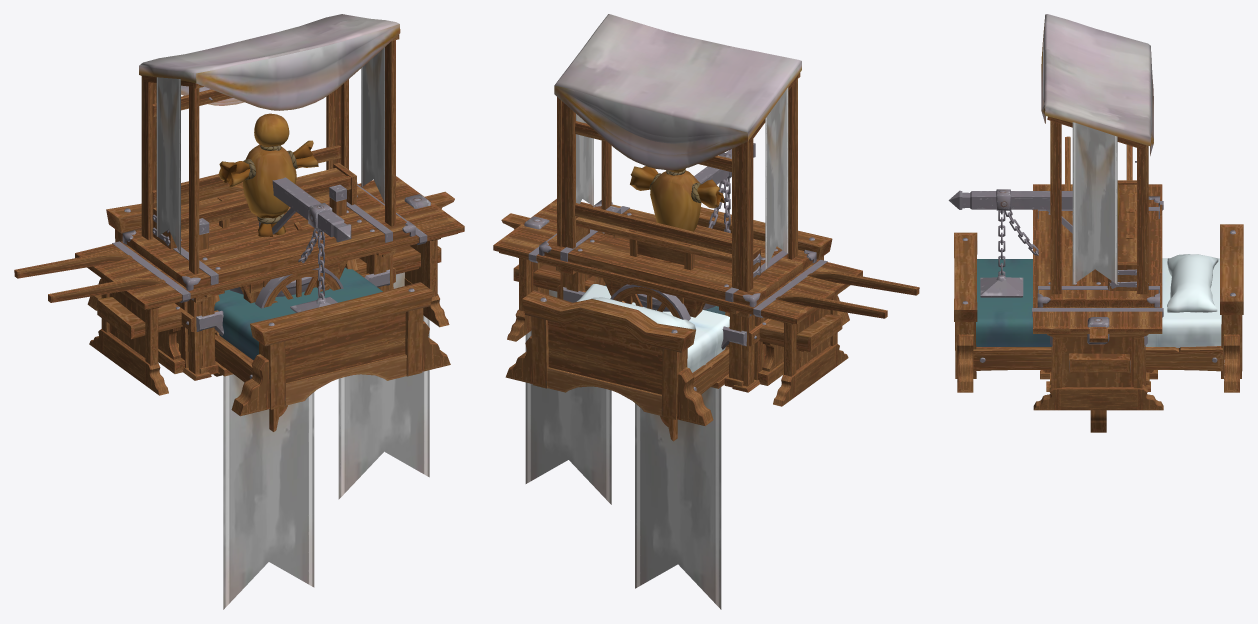
Rendered from utileria.glb.
3 views of the same model, side by side, from view 1: azimuth 30°, elevation 25°; view 2: azimuth 150°, elevation 25°; view 3: azimuth 270°, elevation 25° (orthographic). The views are drawn at different scales.
Parts seen in each view (by area): view 1: Bed_Twin1, Stall_Cart_Empty, Stall_Empty, Banner_1_Cloth, Table_Large, Workbench, Banner_1, Dummy, Bench, Lantern_Wall, WeaponStand; view 2: Stall_Empty, Bed_Twin1, Stall_Cart_Empty, Banner_1_Cloth, Table_Large, Workbench, Banner_1, Dummy, Bench, Lantern_Wall, Chair_1; view 3: Bed_Twin1, Stall_Empty, Table_Large, Stall_Cart_Empty, Workbench, Lantern_Wall, Bench, Banner_1.
Part boxes in pixels (box(x1,y1,x2,y2)): Bed_Twin1: box(87, 182, 450, 416); Stall_Cart_Empty: box(14, 16, 400, 368); Stall_Empty: box(139, 14, 399, 380); Banner_1_Cloth: box(223, 374, 314, 609); Table_Large: box(75, 176, 464, 395); Workbench: box(122, 185, 415, 374); Banner_1: box(269, 191, 454, 499); Dummy: box(218, 113, 318, 236); Bench: box(97, 245, 441, 373); Lantern_Wall: box(259, 177, 351, 312); WeaponStand: box(199, 184, 358, 376); Stall_Empty: box(554, 27, 801, 392); Bed_Twin1: box(505, 207, 849, 425); Stall_Cart_Empty: box(554, 14, 919, 380); Banner_1_Cloth: box(635, 387, 721, 609); Table_Large: box(493, 199, 862, 406); Workbench: box(539, 200, 816, 387); Banner_1: box(501, 213, 677, 504); Dummy: box(630, 166, 724, 231); Bench: box(513, 264, 842, 385); Lantern_Wall: box(694, 143, 755, 232); Chair_1: box(629, 229, 694, 270); Bed_Twin1: box(954, 224, 1243, 392); Stall_Empty: box(1045, 20, 1153, 391); Table_Large: box(1032, 184, 1163, 410); Stall_Cart_Empty: box(1041, 14, 1153, 294); Workbench: box(1037, 196, 1159, 384); Lantern_Wall: box(948, 189, 1072, 297); Bench: box(1069, 353, 1130, 372); Banner_1: box(1087, 317, 1109, 432).
Size of the model in its own units: 3.72 by 4.87 by 2.46.
5 materials, 5 textured.
